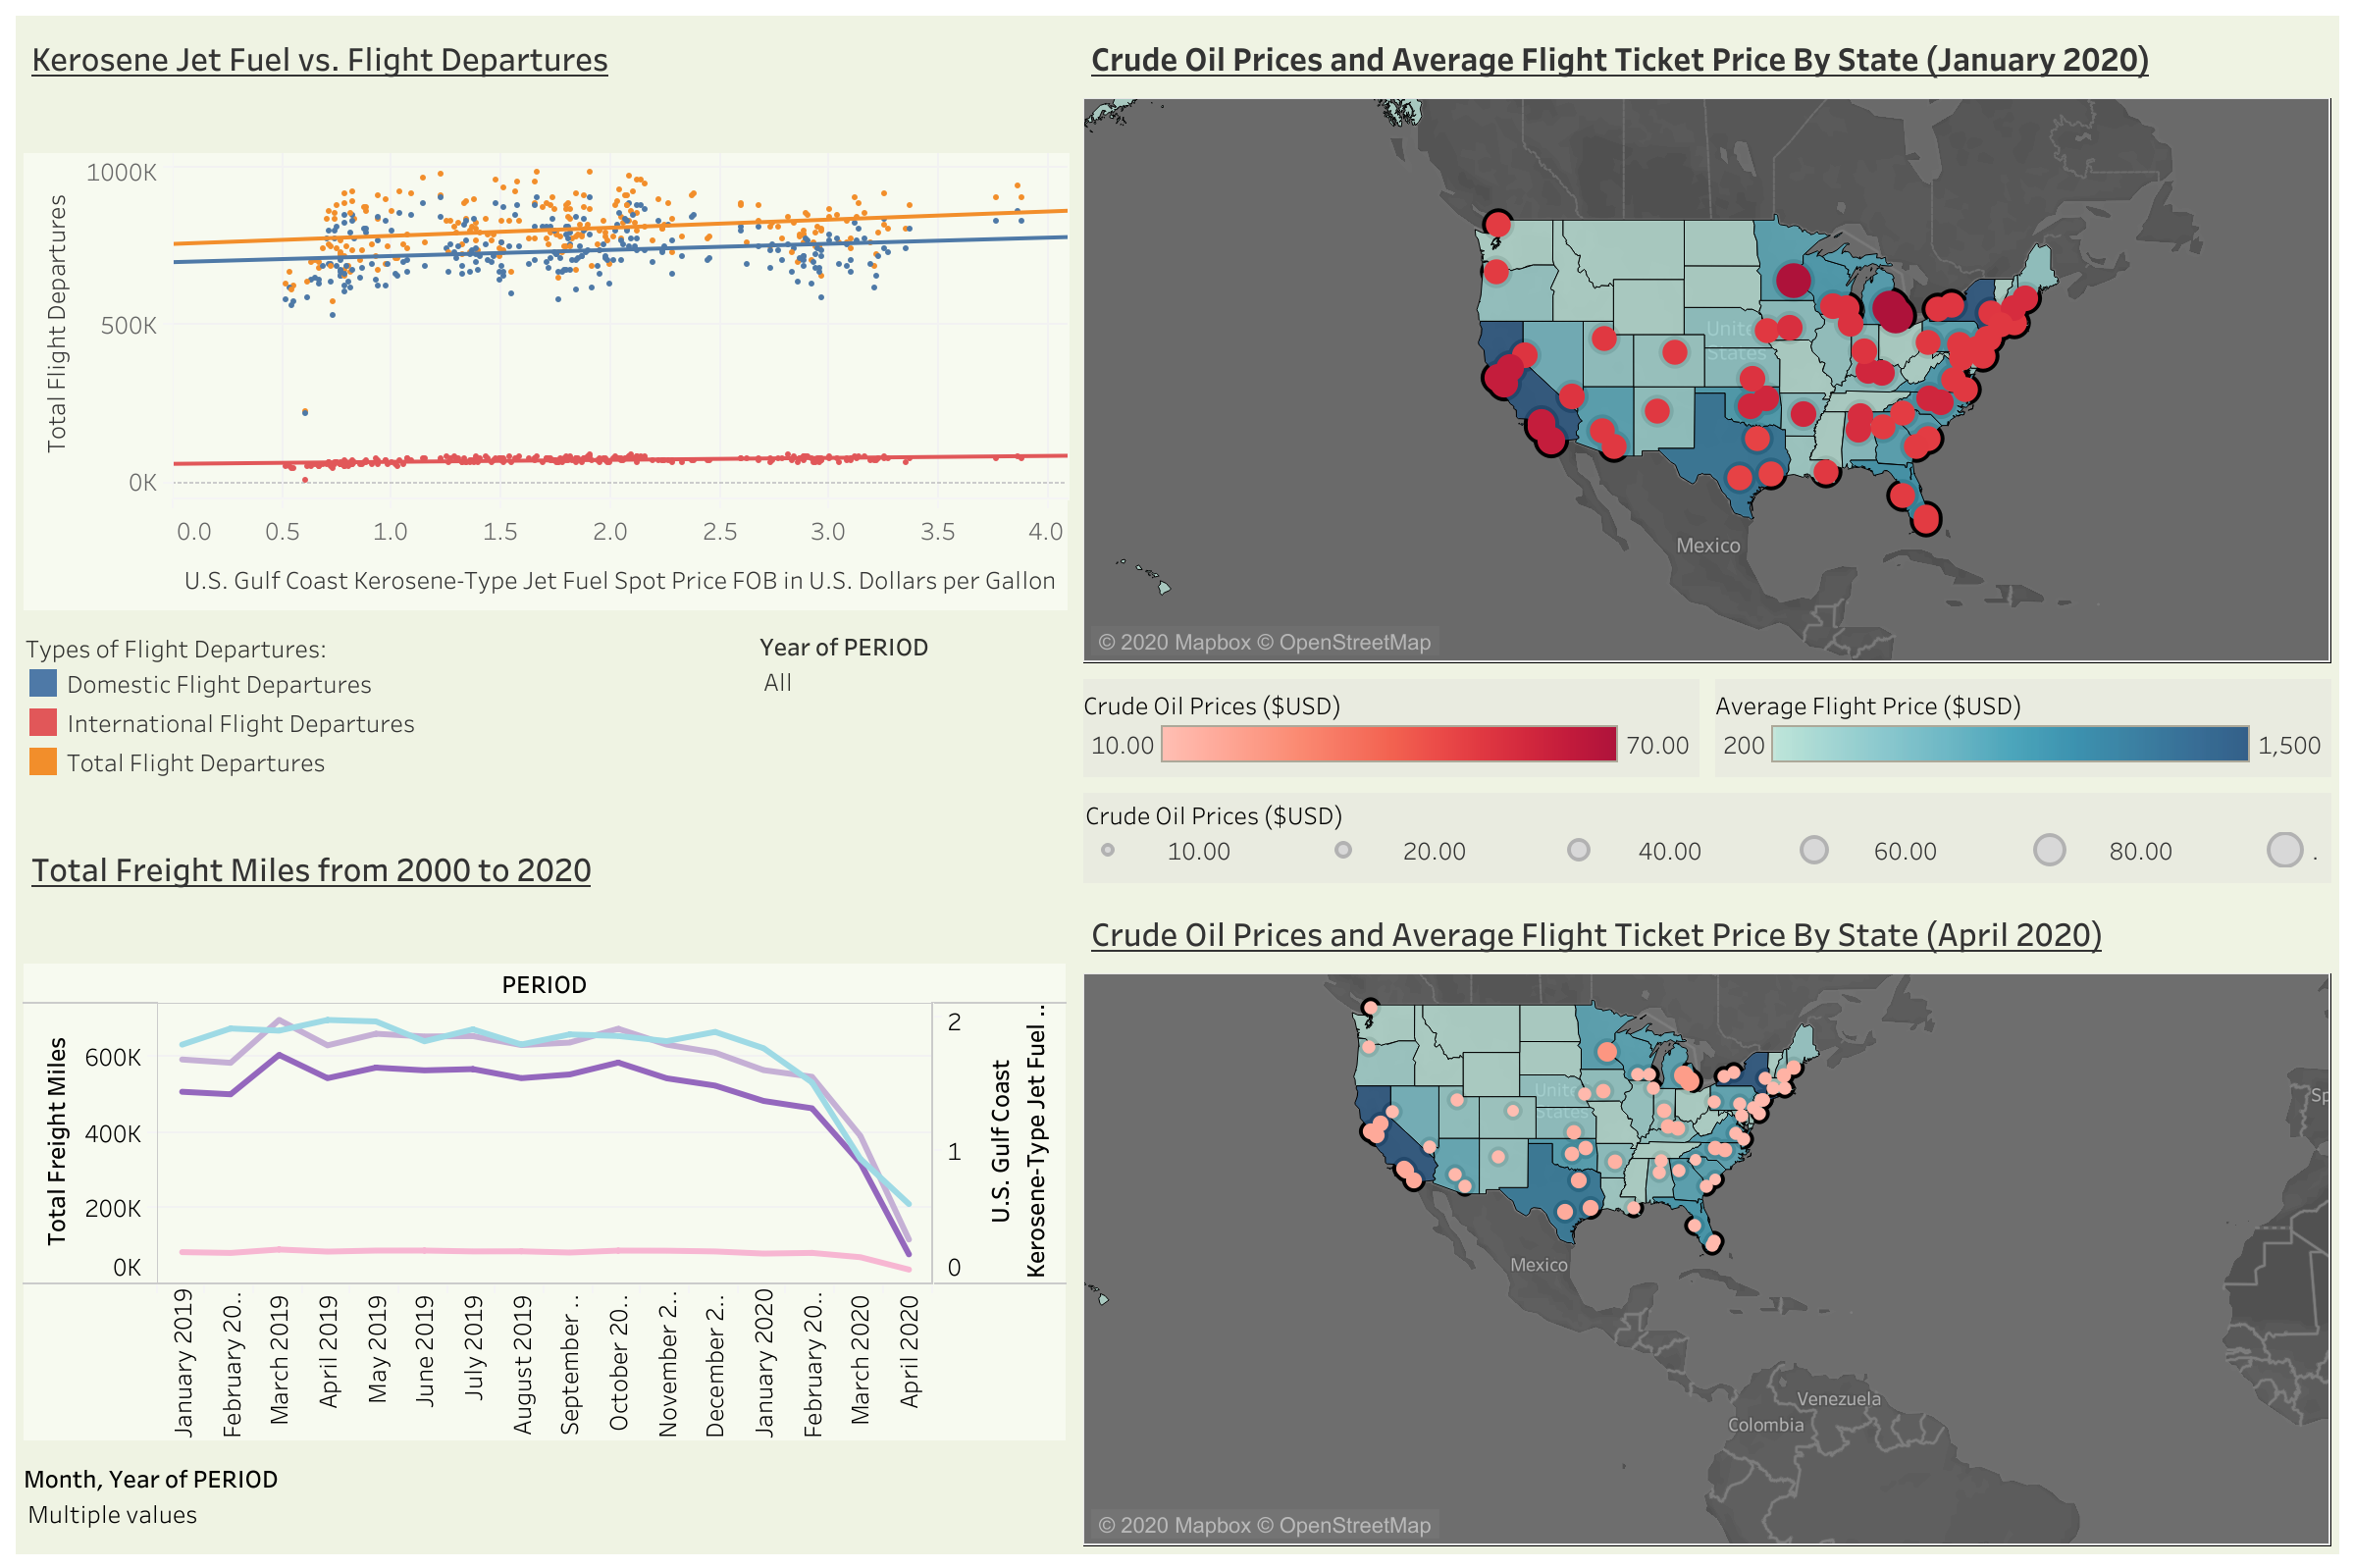

What the dashboard file says about the page in this screenshot:
{"tool":"tableau","page":{"name":"Dashboard 1","canvas":[1200,800],"ordinal":0},"visuals":[{"type":"worksheet","box":[0,0,1200,800]},{"type":"worksheet","param":"horz","box":[8,8,1184,784]},{"type":"worksheet","param":"vert","box":[8,8,1184,784]},{"type":"worksheet","box":[8,8,1184,784]},{"type":"worksheet","param":"horz","box":[8,8,540,784]},{"type":"worksheet","param":"horz","box":[8,8,540,784]},{"type":"worksheet","box":[8,8,540,784]},{"type":"worksheet","title":"Flight-Departures","mark":"Circle","cols":["U.S. Gulf Coast Kerosene-Type Jet Fuel Spot Price FOB in U.S"],"box":[8,8,540,307.2]},{"type":"worksheet","title":"JAN","mark":"Automatic","box":[548,8,644,333.5]},{"type":"worksheet","title":"Flight-Departures","mark":"Circle","cols":["U.S. Gulf Coast Kerosene-Type Jet Fuel Spot Price FOB in U.S"],"param":"[federated.057ca8q0z7n33t1cwtvep1dcxnnk].[:Measure Names]","box":[8,315.2,374.8,105.8]},{"type":"worksheet","title":"Flight-Departures","mark":"Circle","cols":["U.S. Gulf Coast Kerosene-Type Jet Fuel Spot Price FOB in U.S"],"param":"[federated.057ca8q0z7n33t1cwtvep1dcxnnk].[yr:PERIOD:ok]","box":[382.8,315.2,165.2,105.8]},{"type":"worksheet","title":"JAN","mark":"Automatic","param":"[federated.1lo7g5p12p5waw14txsy31ymi293].[sum:Jan-20 (Sheet1):qk]","box":[548,341.5,322.5,58.5]},{"type":"worksheet","title":"JAN","mark":"Automatic","param":"[federated.1lo7g5p12p5waw14txsy31ymi293].[sum:Apr-19:qk]","box":[870.5,341.5,321.5,58.5]},{"type":"worksheet","title":"JAN","mark":"Automatic","param":"[federated.1lo7g5p12p5waw14txsy31ymi293].[sum:Jan-20 (Sheet1):qk]","box":[548,400,644,54]},{"type":"worksheet","title":"Time Series","mark":"Automatic","rows":["U.S. Gulf Coast Kerosene-Type Jet Fuel Spot Price FOB in U.S"],"cols":["PERIOD"],"box":[8,421,540,318.3]},{"type":"worksheet","title":"APR","mark":"Automatic","box":[548,454,644,338]},{"type":"worksheet","title":"Time Series","mark":"Automatic","rows":["U.S. Gulf Coast Kerosene-Type Jet Fuel Spot Price FOB in U.S"],"cols":["PERIOD"],"param":"[federated.057ca8q0z7n33t1cwtvep1dcxnnk].[my:PERIOD:ok]","box":[8,739.3,540,52.7]}]}

Visuals, with their boxes in screenshot pixels (x1, y1, x2, y2), scaled from the page's 1200x800 canvas onto the 2353x1568 screenshot:
worksheet: <bbox>0, 0, 2352, 1567</bbox>
worksheet: <bbox>16, 16, 2337, 1552</bbox>
worksheet: <bbox>16, 16, 2337, 1552</bbox>
worksheet: <bbox>16, 16, 2337, 1552</bbox>
worksheet: <bbox>16, 16, 1074, 1552</bbox>
worksheet: <bbox>16, 16, 1074, 1552</bbox>
worksheet: <bbox>16, 16, 1074, 1552</bbox>
"Flight-Departures" worksheet (Circle marks): <bbox>16, 16, 1074, 618</bbox>
"JAN" worksheet: <bbox>1074, 16, 2337, 669</bbox>
"Flight-Departures" worksheet (Circle marks): <bbox>16, 618, 751, 825</bbox>
"Flight-Departures" worksheet (Circle marks): <bbox>751, 618, 1074, 825</bbox>
"JAN" worksheet: <bbox>1074, 669, 1707, 784</bbox>
"JAN" worksheet: <bbox>1707, 669, 2337, 784</bbox>
"JAN" worksheet: <bbox>1074, 784, 2337, 890</bbox>
"Time Series" worksheet: <bbox>16, 825, 1074, 1449</bbox>
"APR" worksheet: <bbox>1074, 890, 2337, 1552</bbox>
"Time Series" worksheet: <bbox>16, 1449, 1074, 1552</bbox>
